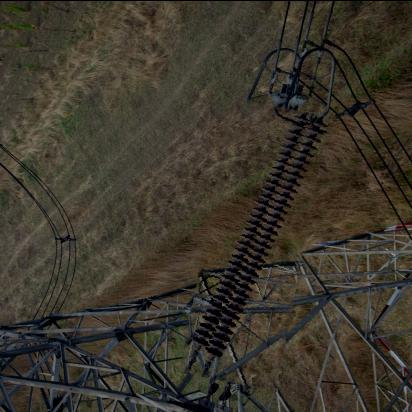insulator: (194, 101, 318, 387)
